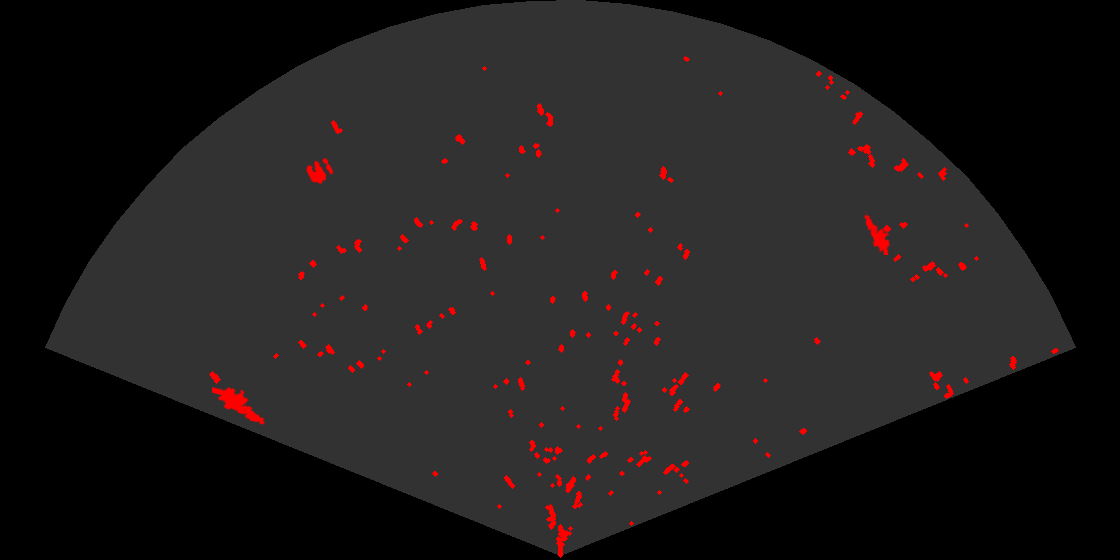ball: (305, 156, 335, 186)
frogman: (212, 385, 267, 426), (863, 211, 891, 255)
